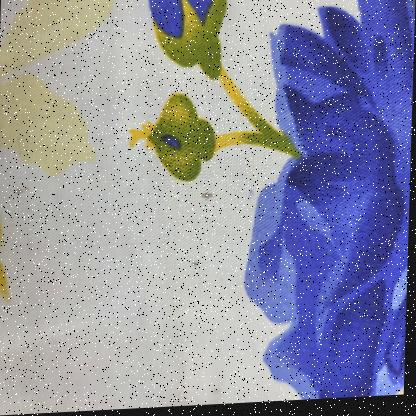spot: (12, 182, 32, 203), (199, 190, 219, 205), (211, 383, 227, 400), (186, 260, 201, 275), (244, 190, 256, 204)
